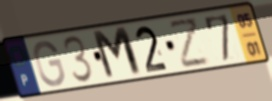2: (135, 24, 170, 75)
3: (63, 35, 95, 85)
7: (202, 12, 231, 63)
G: (32, 39, 67, 89)
M: (90, 24, 146, 83)
Z: (167, 15, 212, 70)
